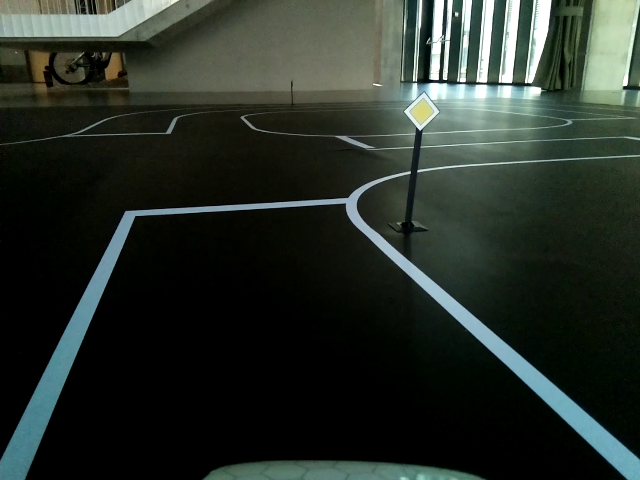priority: (403, 94, 440, 129)
